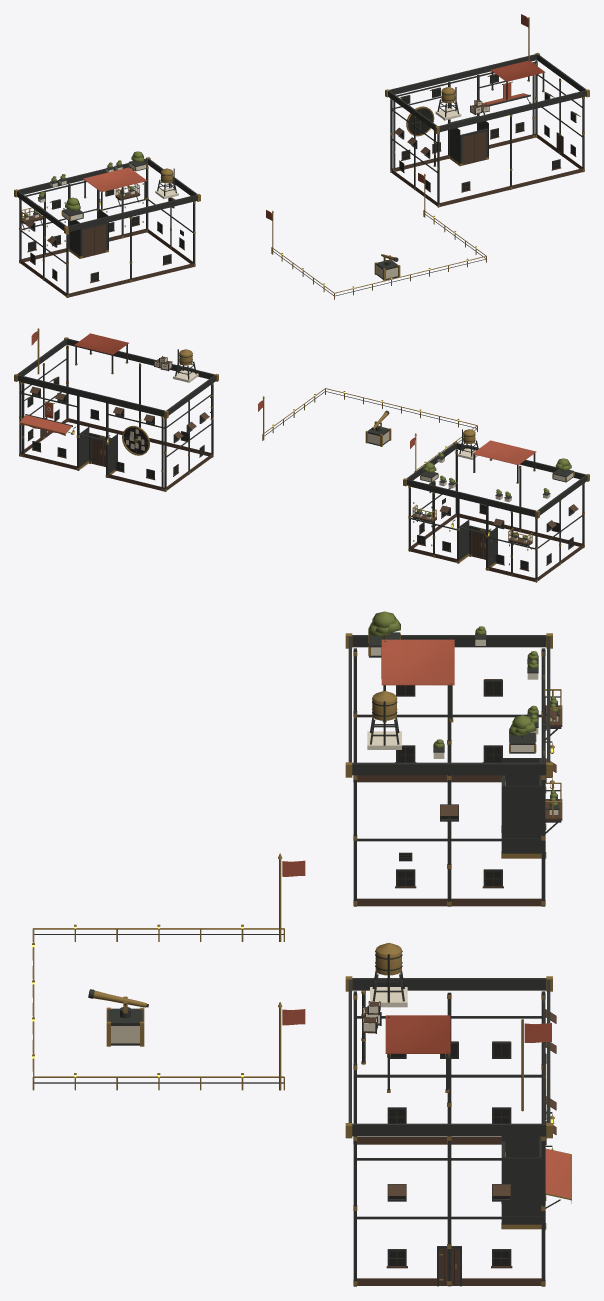
File: upper_set.glb
3 views of the same model, one above another, from view 1: azimuth 30°, elevation 25°; view 2: azimuth 150°, elevation 25°; view 3: azimuth 270°, elevation 25° (orthographic). The views are drawn at different scales.
Visible parts, largest first — view 1: upper_set; view 2: upper_set; view 3: upper_set.
Part boxes in pixels (x1,y1,x2,y2): upper_set: [14, 14, 589, 299]; upper_set: [14, 328, 589, 582]; upper_set: [32, 611, 571, 1286].
Size of the model in its own units: 58.26 by 13.4 by 25.83.
